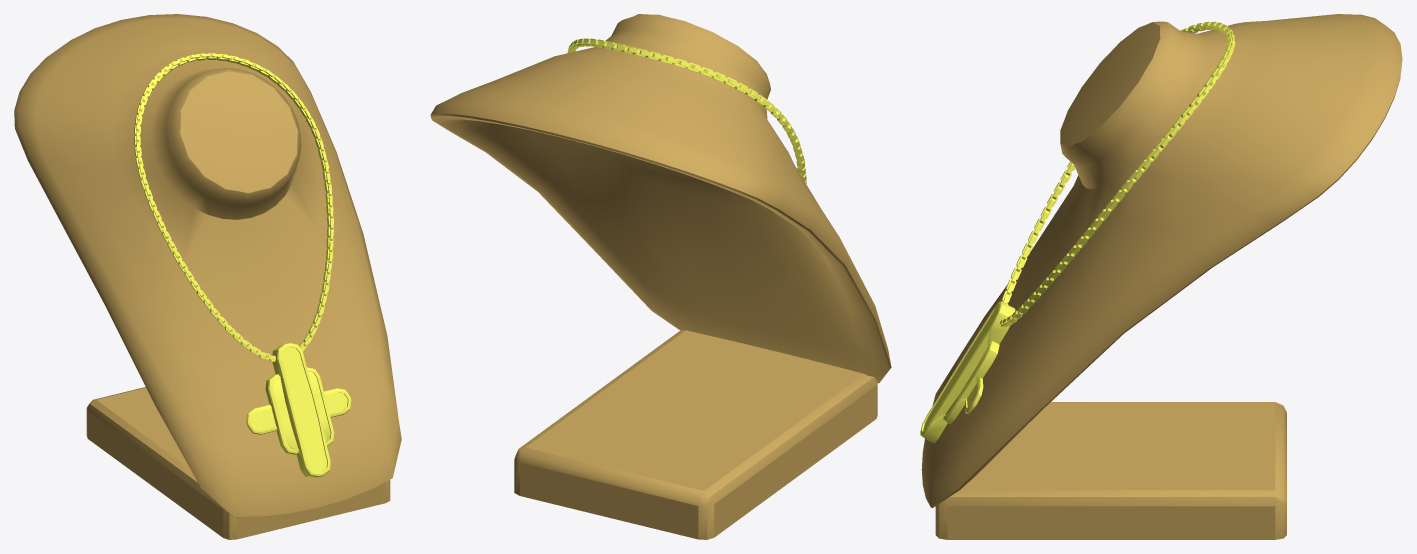
Rendered from Necklace_3.fbx.
The picture shows the model from 3 angles, left to right: view 1: azimuth 30°, elevation 25°; view 2: azimuth 150°, elevation 25°; view 3: azimuth 270°, elevation 25°; orthographic projection. The views are drawn at different scales.
Visible parts, largest first — view 1: SM_Stand_Necklace_5, SM_Cullon_11, SM_Necklace_6; view 2: SM_Stand_Necklace_5, SM_Necklace_6; view 3: SM_Stand_Necklace_5, SM_Necklace_6, SM_Cullon_11.
Boxes of the visible parts, <box> form: SM_Stand_Necklace_5: <box>14,14,401,539</box>; SM_Cullon_11: <box>246,343,351,478</box>; SM_Necklace_6: <box>134,53,333,361</box>; SM_Stand_Necklace_5: <box>430,14,891,539</box>; SM_Necklace_6: <box>567,38,806,183</box>; SM_Stand_Necklace_5: <box>921,14,1402,539</box>; SM_Necklace_6: <box>999,21,1235,327</box>; SM_Cullon_11: <box>920,301,1015,443</box>.
Bounding box in the file's own units: 22.51 × 29.29 × 27.86.
